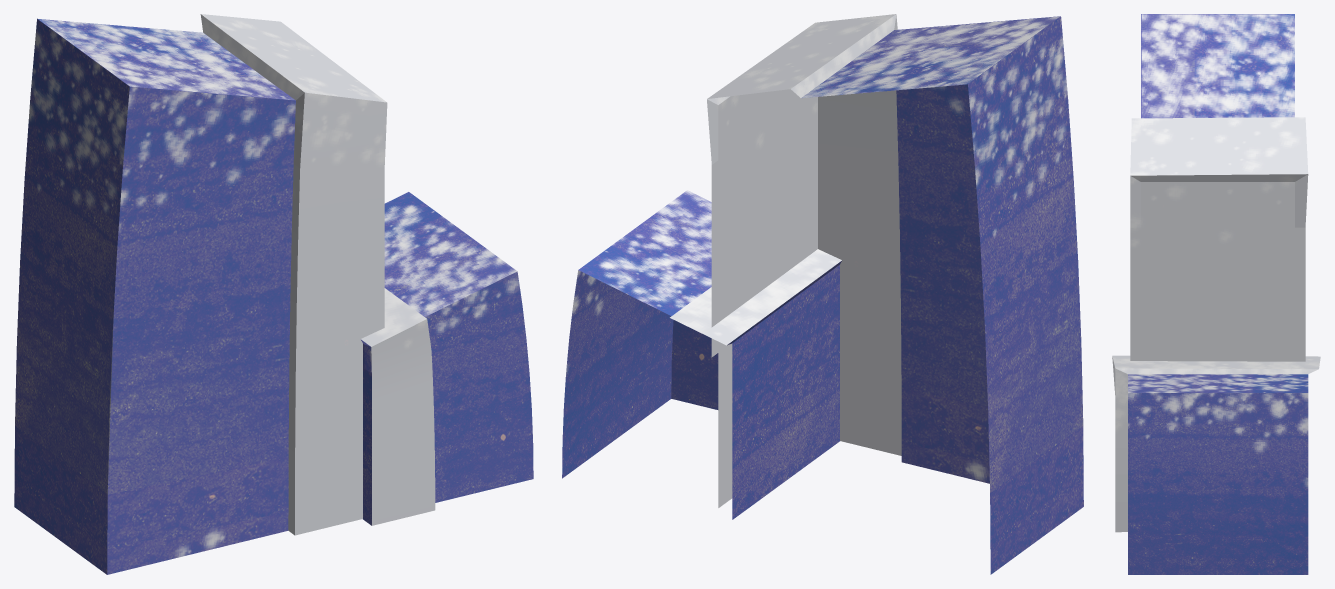
File: 겨울_빌딩_작은거2.FBX
3 views of the same model, side by side, from view 1: azimuth 30°, elevation 25°; view 2: azimuth 150°, elevation 25°; view 3: azimuth 270°, elevation 25° (orthographic). The views are drawn at different scales.
Visible parts, largest first — view 1: Box001; view 2: Box001; view 3: Box001.
Boxes of the visible parts, x1,y1,x2,y2 form: Box001: [14, 14, 533, 574]; Box001: [562, 14, 1083, 574]; Box001: [1112, 14, 1320, 574].
Bounding box in the file's own units: 72.17 × 79.63 × 37.55.
Materials: 1 (1 with a texture image).
